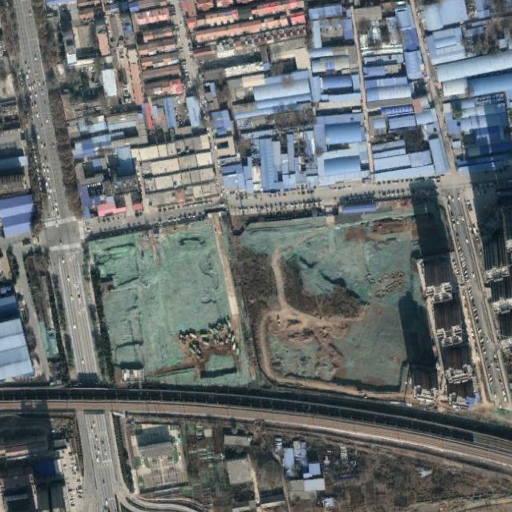cw: (82, 200, 452, 396)
